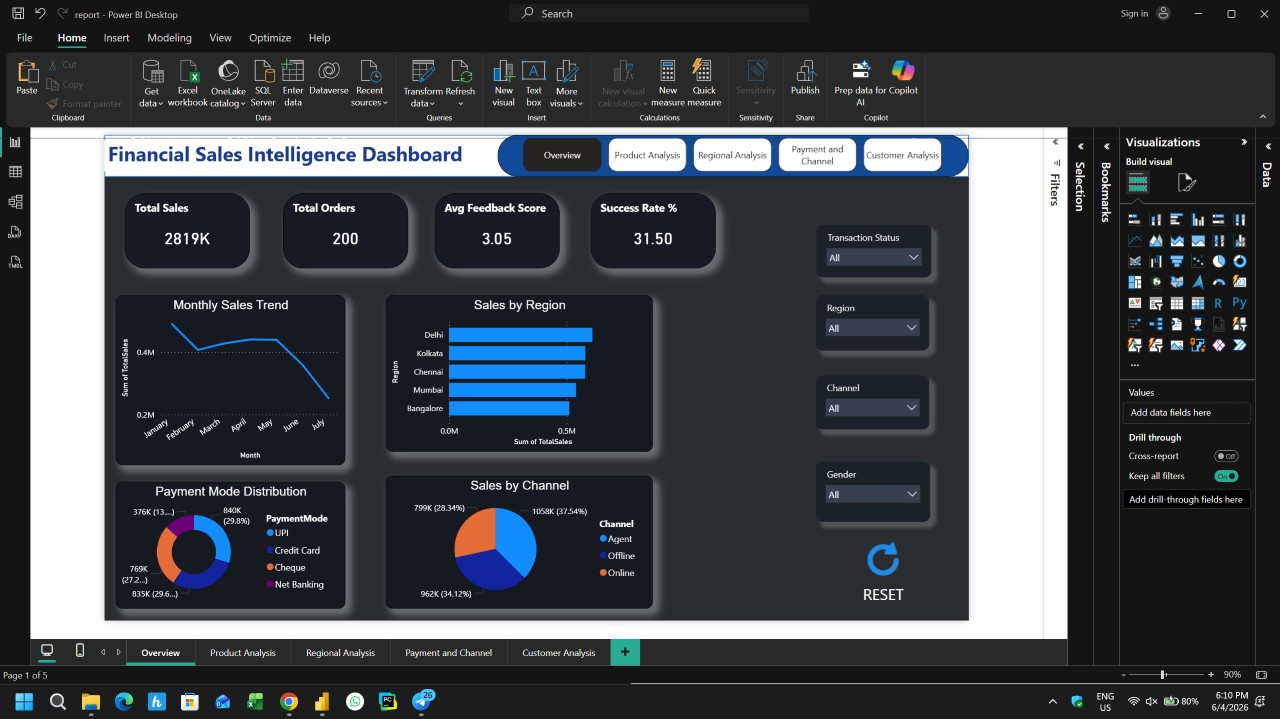

The page's visual inventory and layout, read from the dashboard file:
{"tool":"powerbi","page":{"name":"Overview","canvas":[1280,720],"ordinal":0},"visuals":[{"type":"shape","box":[0,0,1280,62.1],"z":0},{"type":"shape","box":[582.6,0,697.4,62.1],"z":1000},{"type":"textbox","title":"Financial Sales Intelligence Dashboard","box":[0,8.2,555.6,46.9],"z":2000},{"type":"slicer","fields":{"Values":["Reliance_Finance_Sales_Dataset.TransactionStatus"]},"box":[1054.1,133.3,170,77.8],"z":3000},{"type":"lineChart","title":"Monthly Sales Trend","fields":{"Y":["Sum(Reliance_Finance_Sales_Dataset.TotalSales)"],"Category":["Reliance_Finance_Sales_Dataset.OrderDate.Variation.Date Hierarchy.Month"]},"box":[16.7,237.8,340,252.2],"z":4000},{"type":"barChart","title":"Sales by Region","fields":{"Category":["Reliance_Finance_Sales_Dataset.Region"],"Y":["Sum(Reliance_Finance_Sales_Dataset.TotalSales)"]},"box":[416.7,237.8,395.6,232.2],"z":5000},{"type":"donutChart","title":"Payment Mode Distribution","fields":{"Y":["Sum(Reliance_Finance_Sales_Dataset.TotalSales)"],"Category":["Reliance_Finance_Sales_Dataset.PaymentMode"]},"box":[16.7,514.4,340,187.8],"z":6000},{"type":"pieChart","title":"Sales by Channel","fields":{"Category":["Reliance_Finance_Sales_Dataset.Channel"],"Y":["Sum(Reliance_Finance_Sales_Dataset.TotalSales)"]},"box":[416.7,505.6,395.6,196.7],"z":7000},{"type":"slicer","fields":{"Values":["Reliance_Finance_Sales_Dataset.Gender"]},"box":[1053.3,485,169,89.5],"z":9000},{"type":"slicer","fields":{"Values":["Reliance_Finance_Sales_Dataset.Channel"]},"box":[1053.3,356.5,168,80],"z":10000},{"type":"actionButton","box":[1018.6,590.8,173.5,100.8],"z":11000},{"type":"slicer","fields":{"Values":["Reliance_Finance_Sales_Dataset.Region"]},"box":[1053.3,237.5,168,82.1],"z":12000},{"type":"card","title":"Total Sales","fields":{"Values":["Sum(Reliance_Finance_Sales_Dataset.TotalSales)"]},"box":[30,86.7,185.6,111.1],"z":13000},{"type":"card","title":"Total Orders","fields":{"Values":["CountNonNull(Reliance_Finance_Sales_Dataset.OrderID)"]},"box":[264.4,86.7,185.6,111.1],"z":14000},{"type":"card","title":"Avg Feedback Score","fields":{"Values":["Avg(Reliance_Finance_Sales_Dataset.FeedbackScore)"]},"box":[488.9,86.7,185.6,111.1],"z":15000},{"type":"card","title":"Success Rate %","fields":{"Values":["_Measures.Success Rate %"]},"box":[720,86.7,185.6,111.1],"z":16000},{"type":"pageNavigator","box":[620.1,4.7,622.4,50.4],"z":18000}]}

Visuals, with their boxes on the page's 1280x720 design canvas (x1, y1, x2, y2). These are canvas units, not pixel positions in the 1280x719 screenshot, which may show the page scaled, cropped or inside an application window:
shape: <bbox>0, 0, 1280, 62</bbox>
shape: <bbox>583, 0, 1280, 62</bbox>
"Financial Sales Intelligence Dashboard" textbox: <bbox>0, 8, 556, 55</bbox>
slicer - Reliance_Finance_Sales_Dataset.TransactionStatus: <bbox>1054, 133, 1224, 211</bbox>
"Monthly Sales Trend" lineChart: <bbox>17, 238, 357, 490</bbox>
"Sales by Region" barChart: <bbox>417, 238, 812, 470</bbox>
"Payment Mode Distribution" donutChart: <bbox>17, 514, 357, 702</bbox>
"Sales by Channel" pieChart: <bbox>417, 506, 812, 702</bbox>
slicer - Reliance_Finance_Sales_Dataset.Gender: <bbox>1053, 485, 1222, 574</bbox>
slicer - Reliance_Finance_Sales_Dataset.Channel: <bbox>1053, 356, 1221, 436</bbox>
actionButton: <bbox>1019, 591, 1192, 692</bbox>
slicer - Reliance_Finance_Sales_Dataset.Region: <bbox>1053, 238, 1221, 320</bbox>
"Total Sales" card: <bbox>30, 87, 216, 198</bbox>
"Total Orders" card: <bbox>264, 87, 450, 198</bbox>
"Avg Feedback Score" card: <bbox>489, 87, 674, 198</bbox>
"Success Rate %" card: <bbox>720, 87, 906, 198</bbox>
pageNavigator: <bbox>620, 5, 1242, 55</bbox>
